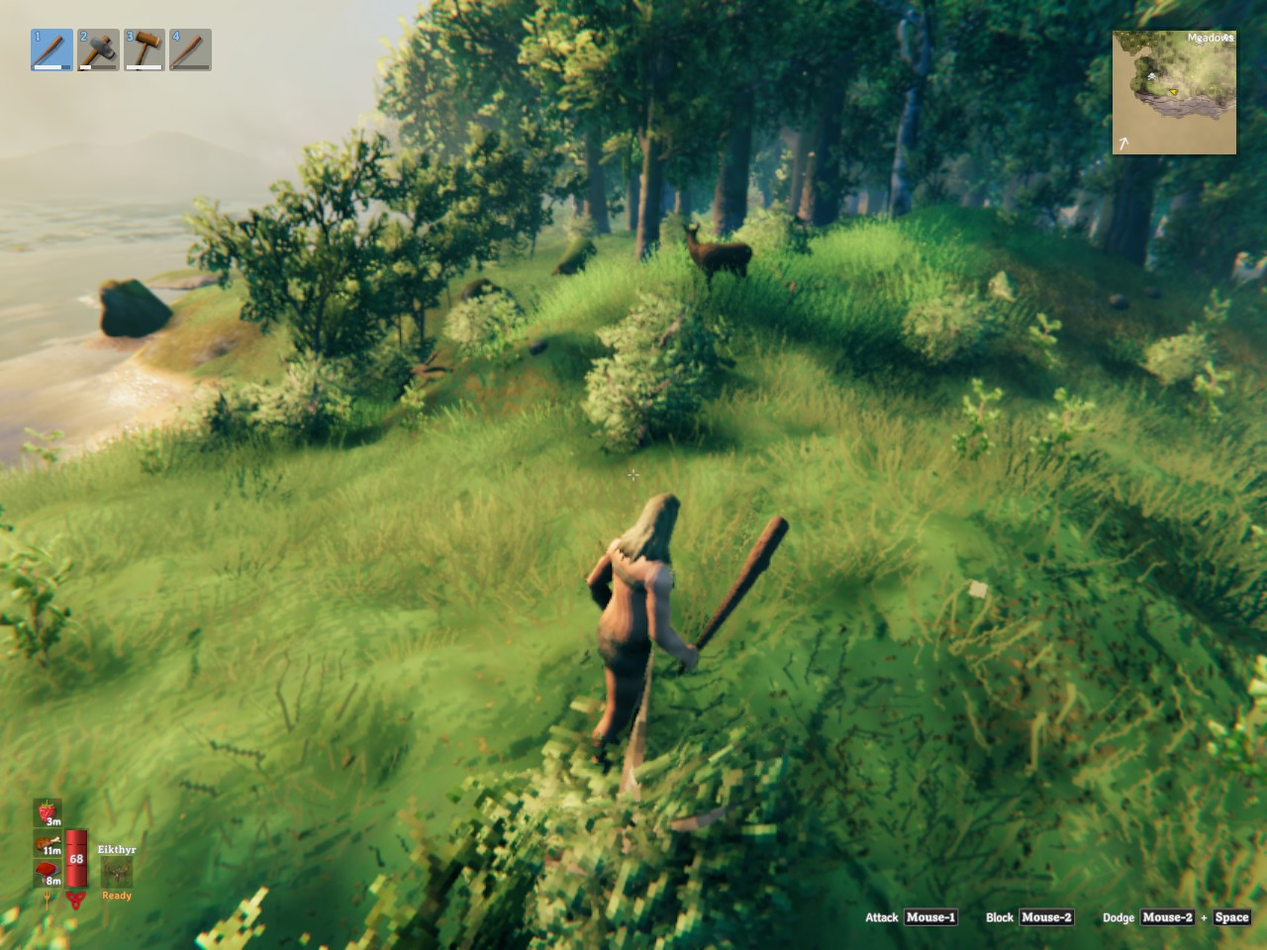Deer: (683, 223, 752, 286)
Food Indicator: (36, 797, 63, 891)
Health Bar: (63, 820, 90, 891)
Hotbar: (25, 21, 398, 78)
Stone: (528, 338, 547, 355), (1108, 294, 1129, 308), (1145, 287, 1161, 298)
